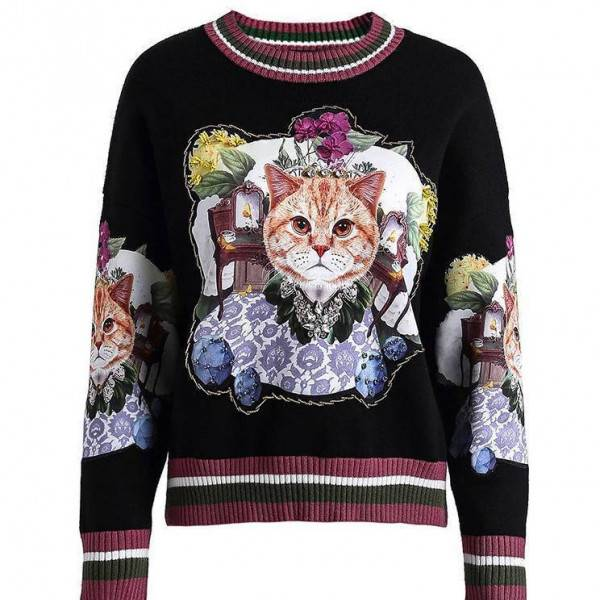cat: (248, 156, 407, 301), (73, 268, 137, 368)
